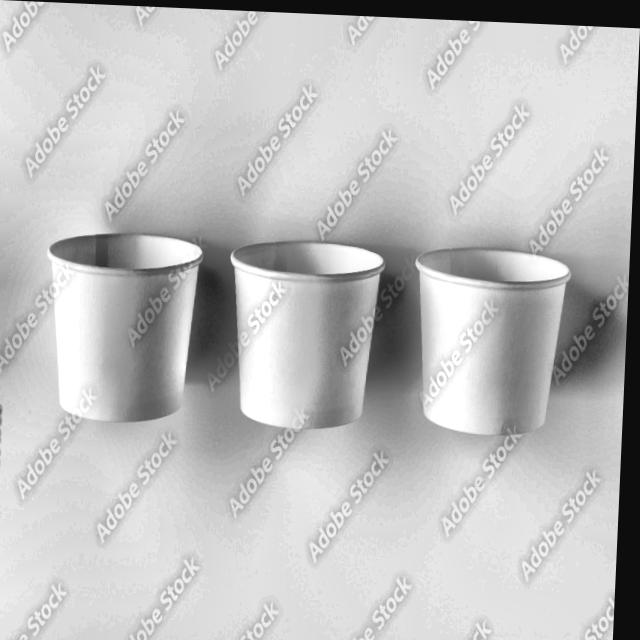Cup: (224, 227, 399, 443), (408, 230, 579, 443), (41, 225, 216, 429)
